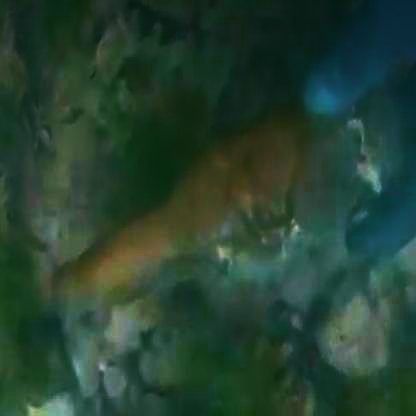gbottle: (35, 140, 372, 363)
